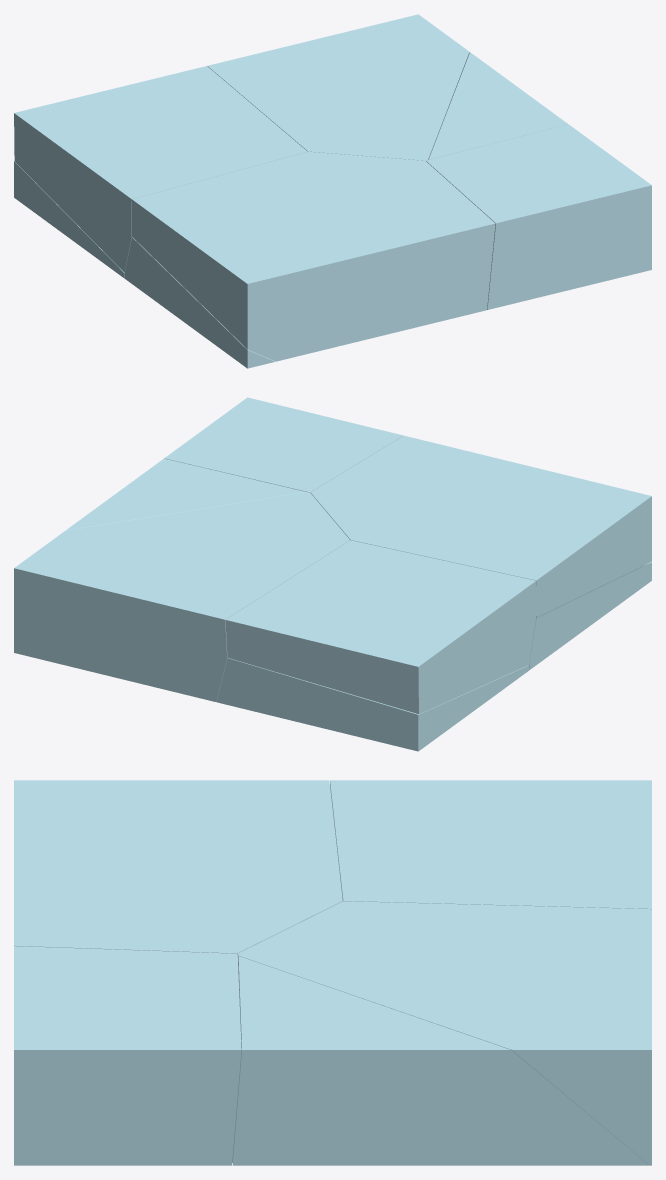
Rendered from destructable-fracture1dfe8f7e.glb.
3 renders of one model, top to bottom at view 1: azimuth 30°, elevation 25°; view 2: azimuth 150°, elevation 25°; view 3: azimuth 270°, elevation 25°, orthographic. The views are drawn at different scales.
Parts seen in each view (by area): view 1: Cube_cell.019, Cube_cell.017, Cube_cell.018, Cube_cell.014, Cube_cell.015, Cube_cell.016, Cube_cell.013; view 2: Cube_cell.014, Cube_cell.017, Cube_cell.019, Cube_cell.018, Cube_cell.013, Cube_cell.015, Cube_cell.016; view 3: Cube_cell.014, Cube_cell.019, Cube_cell.015, Cube_cell.018, Cube_cell.017.
Boxes of the visible parts, x1,y1,x2,y2 form: Cube_cell.019: [132, 151, 495, 361]; Cube_cell.017: [14, 66, 307, 272]; Cube_cell.018: [426, 124, 651, 309]; Cube_cell.014: [207, 14, 469, 160]; Cube_cell.015: [428, 52, 567, 159]; Cube_cell.016: [124, 237, 274, 368]; Cube_cell.013: [14, 161, 124, 278]; Cube_cell.014: [14, 492, 350, 701]; Cube_cell.017: [225, 540, 536, 714]; Cube_cell.019: [310, 435, 651, 617]; Cube_cell.018: [164, 397, 403, 492]; Cube_cell.013: [216, 658, 528, 751]; Cube_cell.015: [66, 458, 306, 530]; Cube_cell.016: [529, 562, 651, 670]; Cube_cell.014: [237, 901, 651, 1165]; Cube_cell.019: [14, 780, 342, 957]; Cube_cell.015: [232, 956, 648, 1165]; Cube_cell.018: [14, 946, 241, 1165]; Cube_cell.017: [330, 780, 651, 909].
Bounding box in the file's own units: 5 × 1 × 5.
